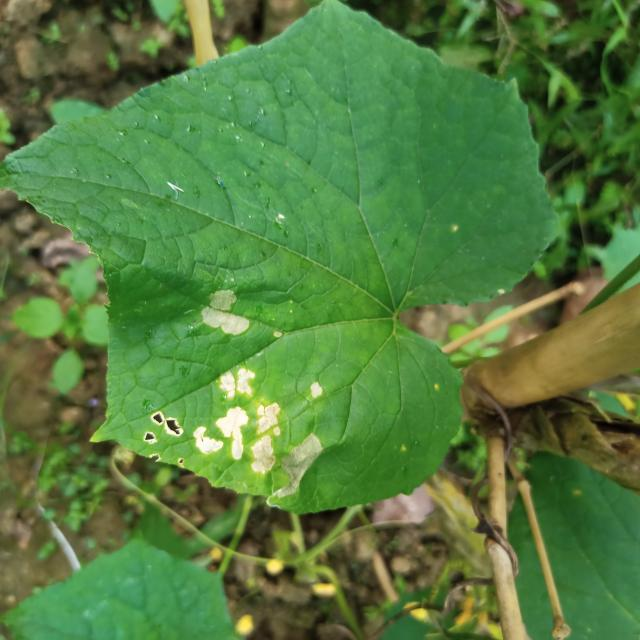disease_cucumber: (145, 358, 336, 508), (192, 287, 256, 341)
